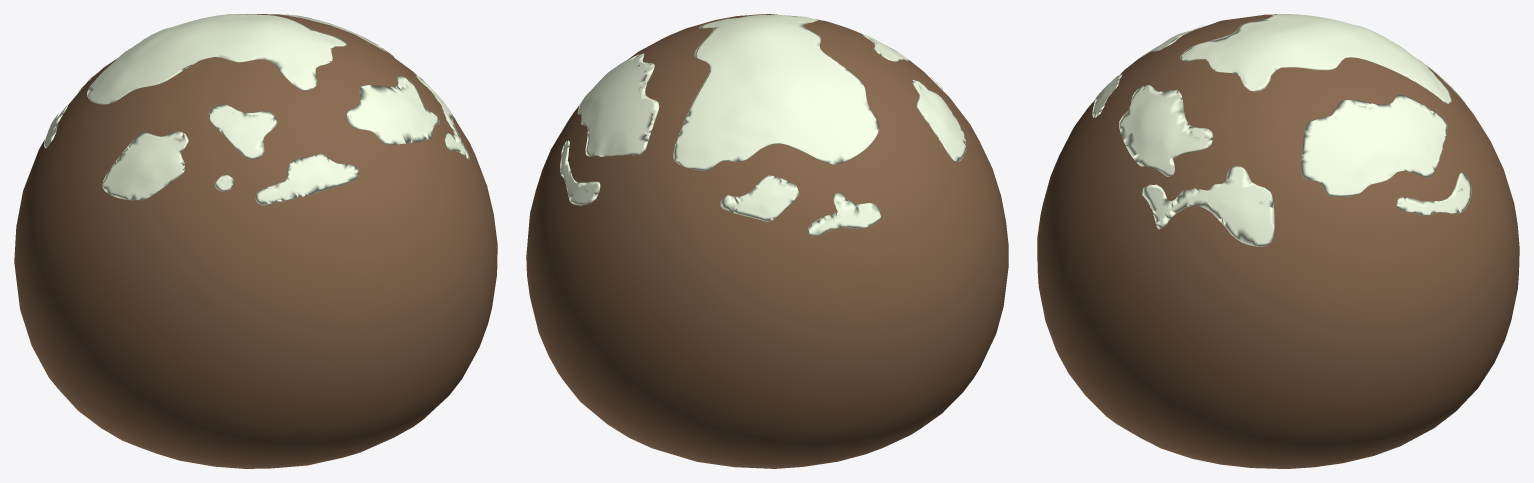
The model's file is PRALINKA1.fbx.
The picture shows the model from 3 angles, left to right: view 1: azimuth 30°, elevation 25°; view 2: azimuth 150°, elevation 25°; view 3: azimuth 270°, elevation 25°; orthographic projection.
Parts seen in each view (by area): view 1: Sphere; view 2: Sphere; view 3: Sphere.
Boxes of the visible parts, bbox=[...] form: Sphere: bbox=[14, 14, 497, 468]; Sphere: bbox=[526, 14, 1008, 468]; Sphere: bbox=[1037, 14, 1519, 468].
Size of the model in its own units: 197 by 177 by 197.
